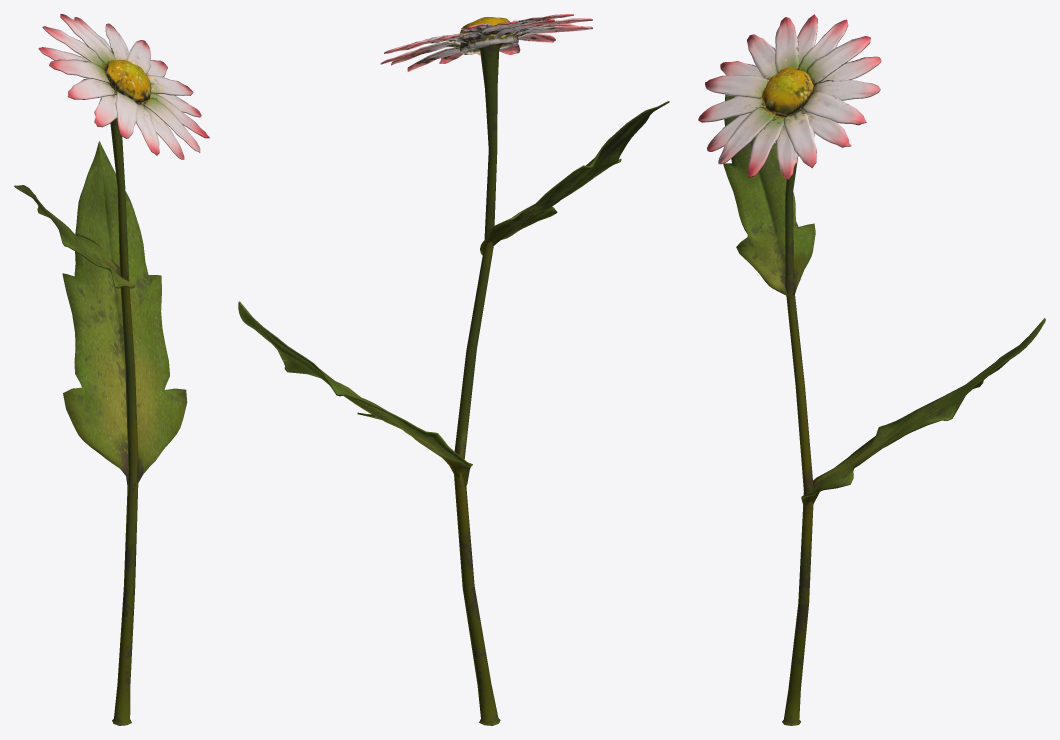
File: daisy.glb
3 views of the same model, side by side, from view 1: azimuth 30°, elevation 25°; view 2: azimuth 150°, elevation 25°; view 3: azimuth 270°, elevation 25° (orthographic). The views are drawn at different scales.
Parts seen in each view (by area): view 1: Object_2; view 2: Object_2; view 3: Object_2.
Part boxes in pixels (x1,y1,x2,y2): Object_2: (14,14,209,725); Object_2: (238,14,669,725); Object_2: (698,14,1045,725).
Size of the model in its own units: 1.25 by 3.24 by 1.51.
Materials: 1 (1 with a texture image).
